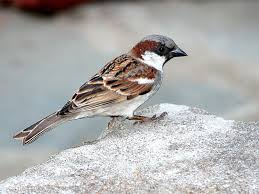hsparrow: (12, 29, 194, 143)
